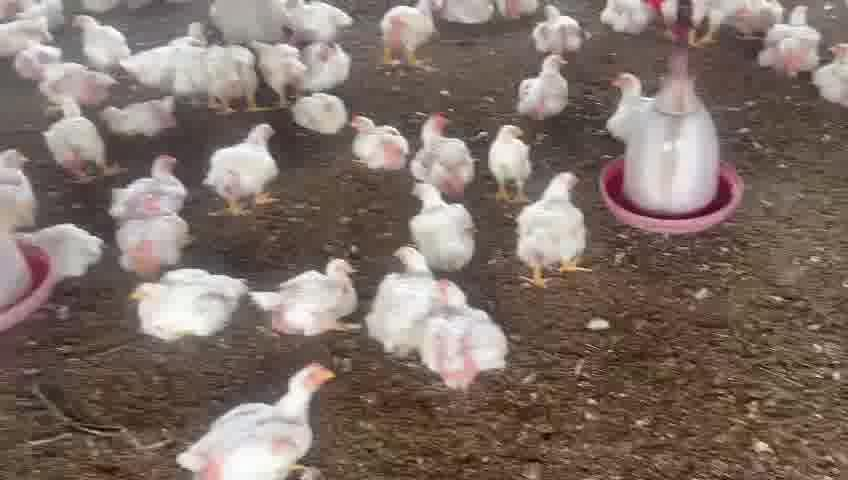AbNormal: (88, 86, 175, 139)
Normal: (155, 365, 342, 480), (425, 278, 509, 396), (111, 268, 245, 341), (255, 251, 364, 340), (358, 243, 436, 358), (519, 172, 598, 285), (210, 123, 288, 218), (408, 182, 485, 275), (41, 99, 120, 183), (406, 113, 483, 196), (116, 196, 194, 268), (484, 121, 546, 208), (376, 0, 446, 75), (31, 59, 125, 114), (512, 51, 580, 126), (763, 1, 821, 83), (350, 112, 420, 175), (208, 41, 264, 115), (529, 2, 589, 65), (295, 91, 366, 138), (70, 14, 132, 60)
